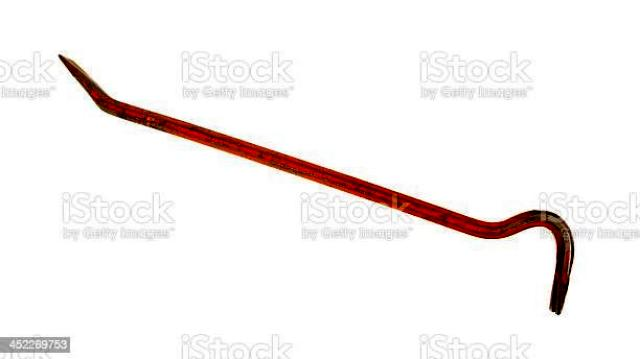crow bar: (60, 54, 574, 319)
